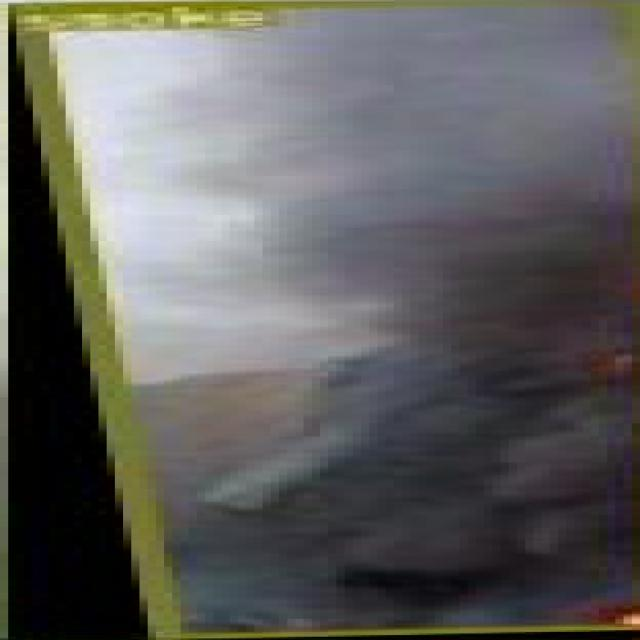smoke: (8, 1, 640, 640)
